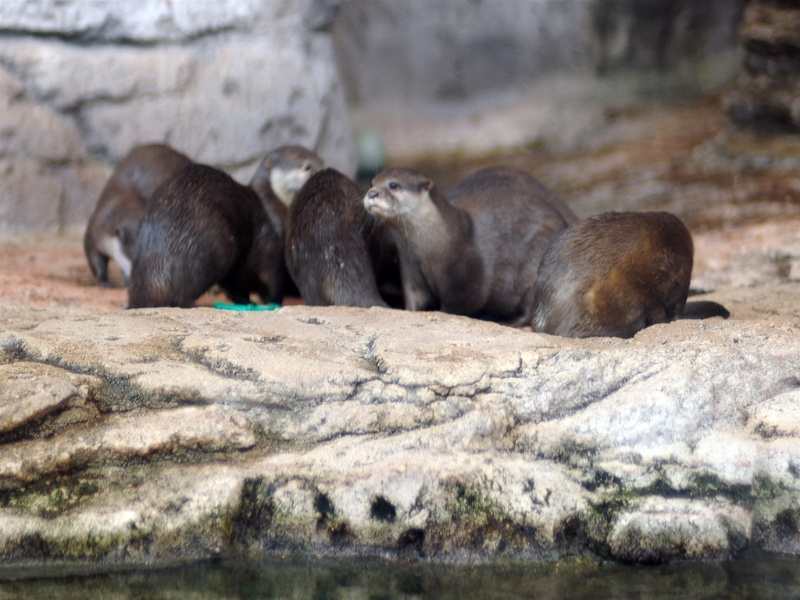minkish: (122, 137, 338, 311), (361, 158, 556, 325), (527, 208, 708, 343), (78, 136, 201, 284), (283, 169, 395, 308)
